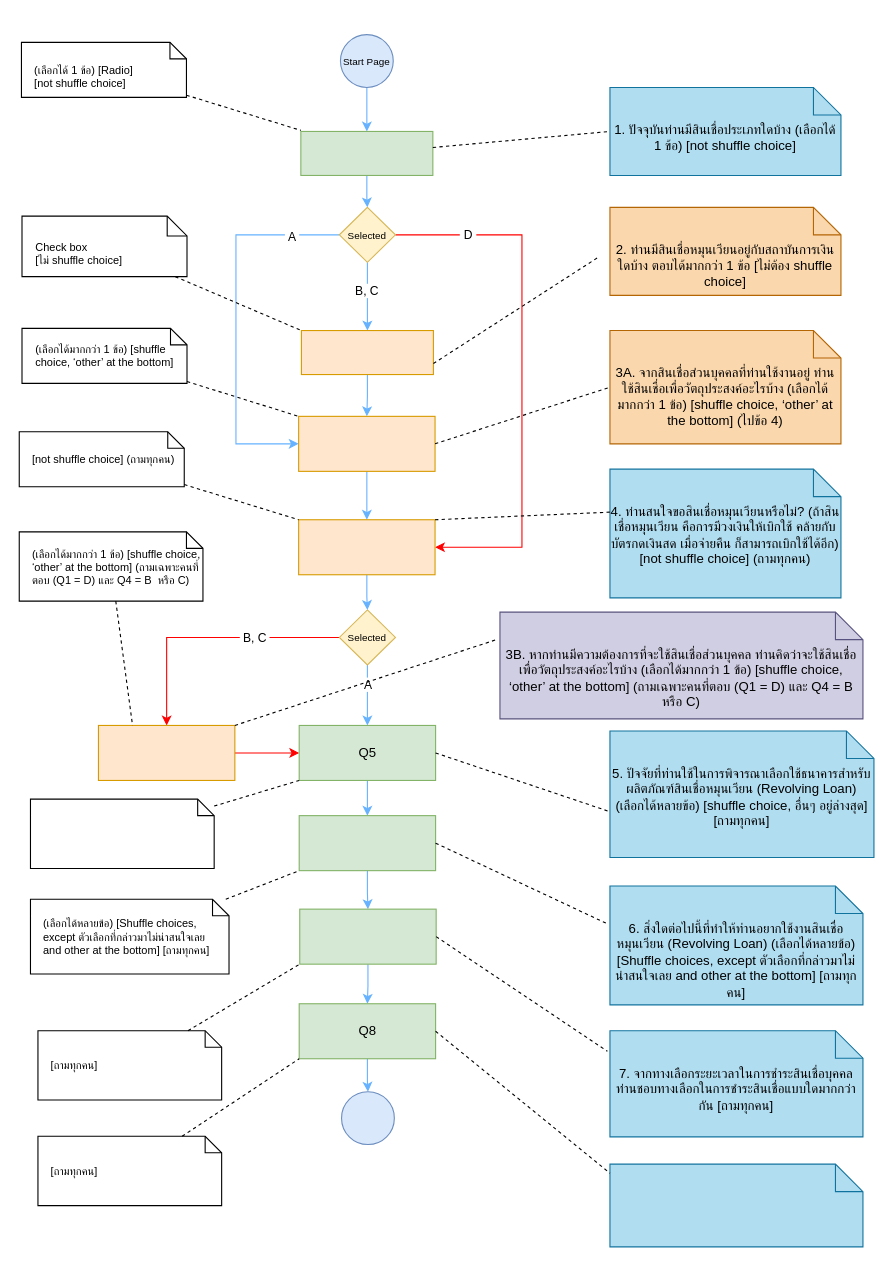
The diagram is 893 pixels wide and 1266 high, and some of its shapes have lost their labels. The box of each missing label's shape, as (x1, y1, x2, y2) in pixels:
8. ปัจจุบันท่านถือบัตรเครดิตอยู่หรือไม่ [ถามทุกคน]: (609, 1163, 863, 1247)
[shuffle choice, อื่นๆ อยู่ล่างสุด] [ถามทุกคน]: (29, 798, 214, 868)
End Page: (340, 1091, 394, 1145)
Q1: (300, 130, 433, 175)
Q2: (300, 329, 433, 375)
Q3A: (298, 415, 435, 471)
Q3B: (97, 724, 235, 780)
Q4: (298, 519, 435, 575)
Q6: (298, 815, 436, 871)
Q7: (299, 908, 436, 964)
